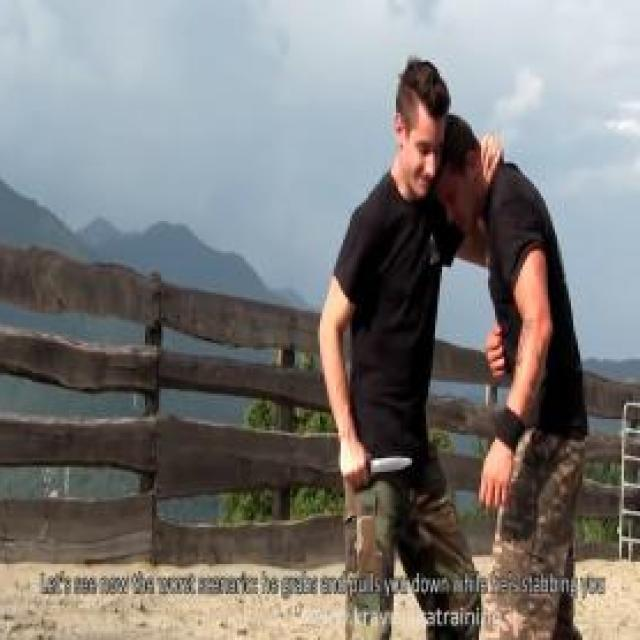knife: (336, 444, 418, 501)
